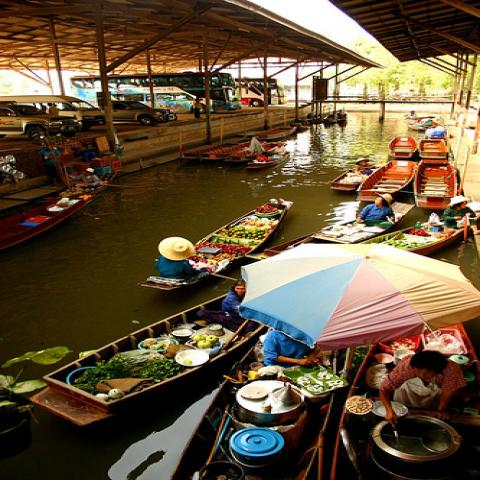bus: (68, 72, 229, 99), (233, 78, 285, 107)
car: (112, 100, 170, 127)
truck: (0, 95, 106, 131), (0, 100, 80, 141), (113, 100, 178, 125)
